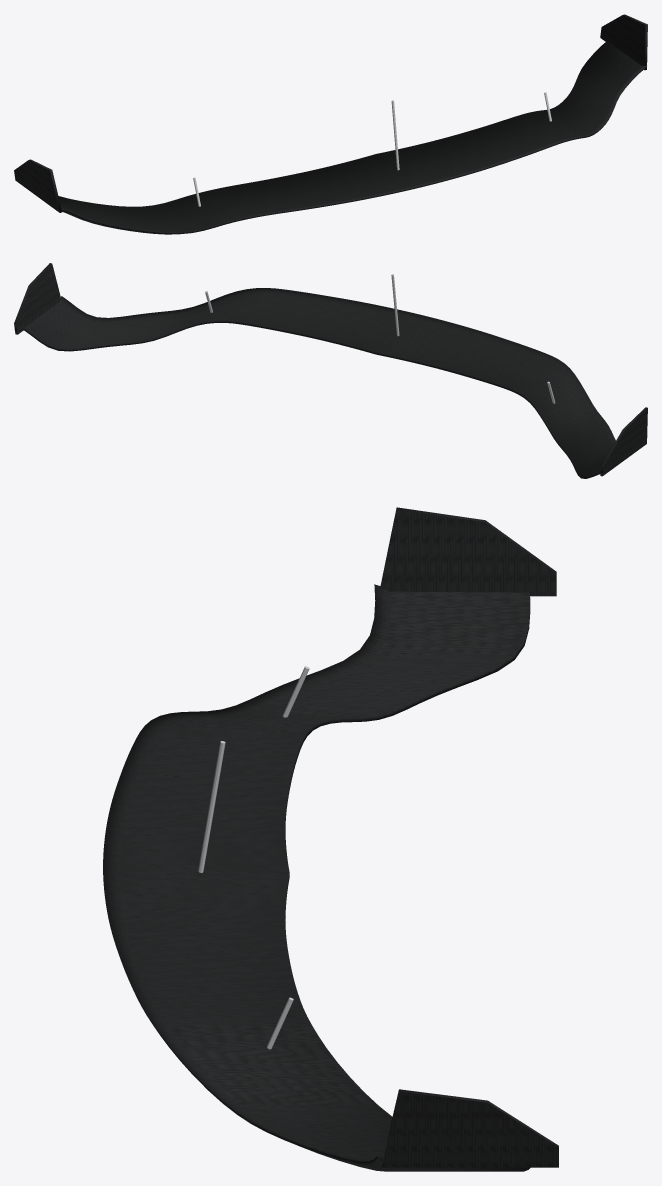
The model's file is WB10_widebody_lip.glb.
3 renders of one model, top to bottom at view 1: azimuth 30°, elevation 25°; view 2: azimuth 150°, elevation 25°; view 3: azimuth 270°, elevation 25°, orthographic. The views are drawn at different scales.
Parts seen in each view (by area): view 1: MOD_NC_WB10_blade, MOD_NC_WB10_fence_L, MOD_NC_WB10_fence_R; view 2: MOD_NC_WB10_blade, MOD_NC_WB10_fence_L, MOD_NC_WB10_fence_R; view 3: MOD_NC_WB10_blade, MOD_NC_WB10_fence_R, MOD_NC_WB10_fence_L.
Boxes of the visible parts, <box> form: MOD_NC_WB10_blade: <box>58,41,646,234</box>; MOD_NC_WB10_fence_L: <box>600,14,647,70</box>; MOD_NC_WB10_fence_R: <box>14,159,61,212</box>; MOD_NC_WB10_blade: <box>24,288,615,478</box>; MOD_NC_WB10_fence_L: <box>14,263,60,334</box>; MOD_NC_WB10_fence_R: <box>600,407,647,476</box>; MOD_NC_WB10_blade: <box>103,584,530,1171</box>; MOD_NC_WB10_fence_R: <box>380,507,556,596</box>; MOD_NC_WB10_fence_L: <box>381,1089,558,1167</box>.
Bounding box in the file's own units: 1.55 × 0.2224 × 0.5131.
2 materials, 1 textured.
